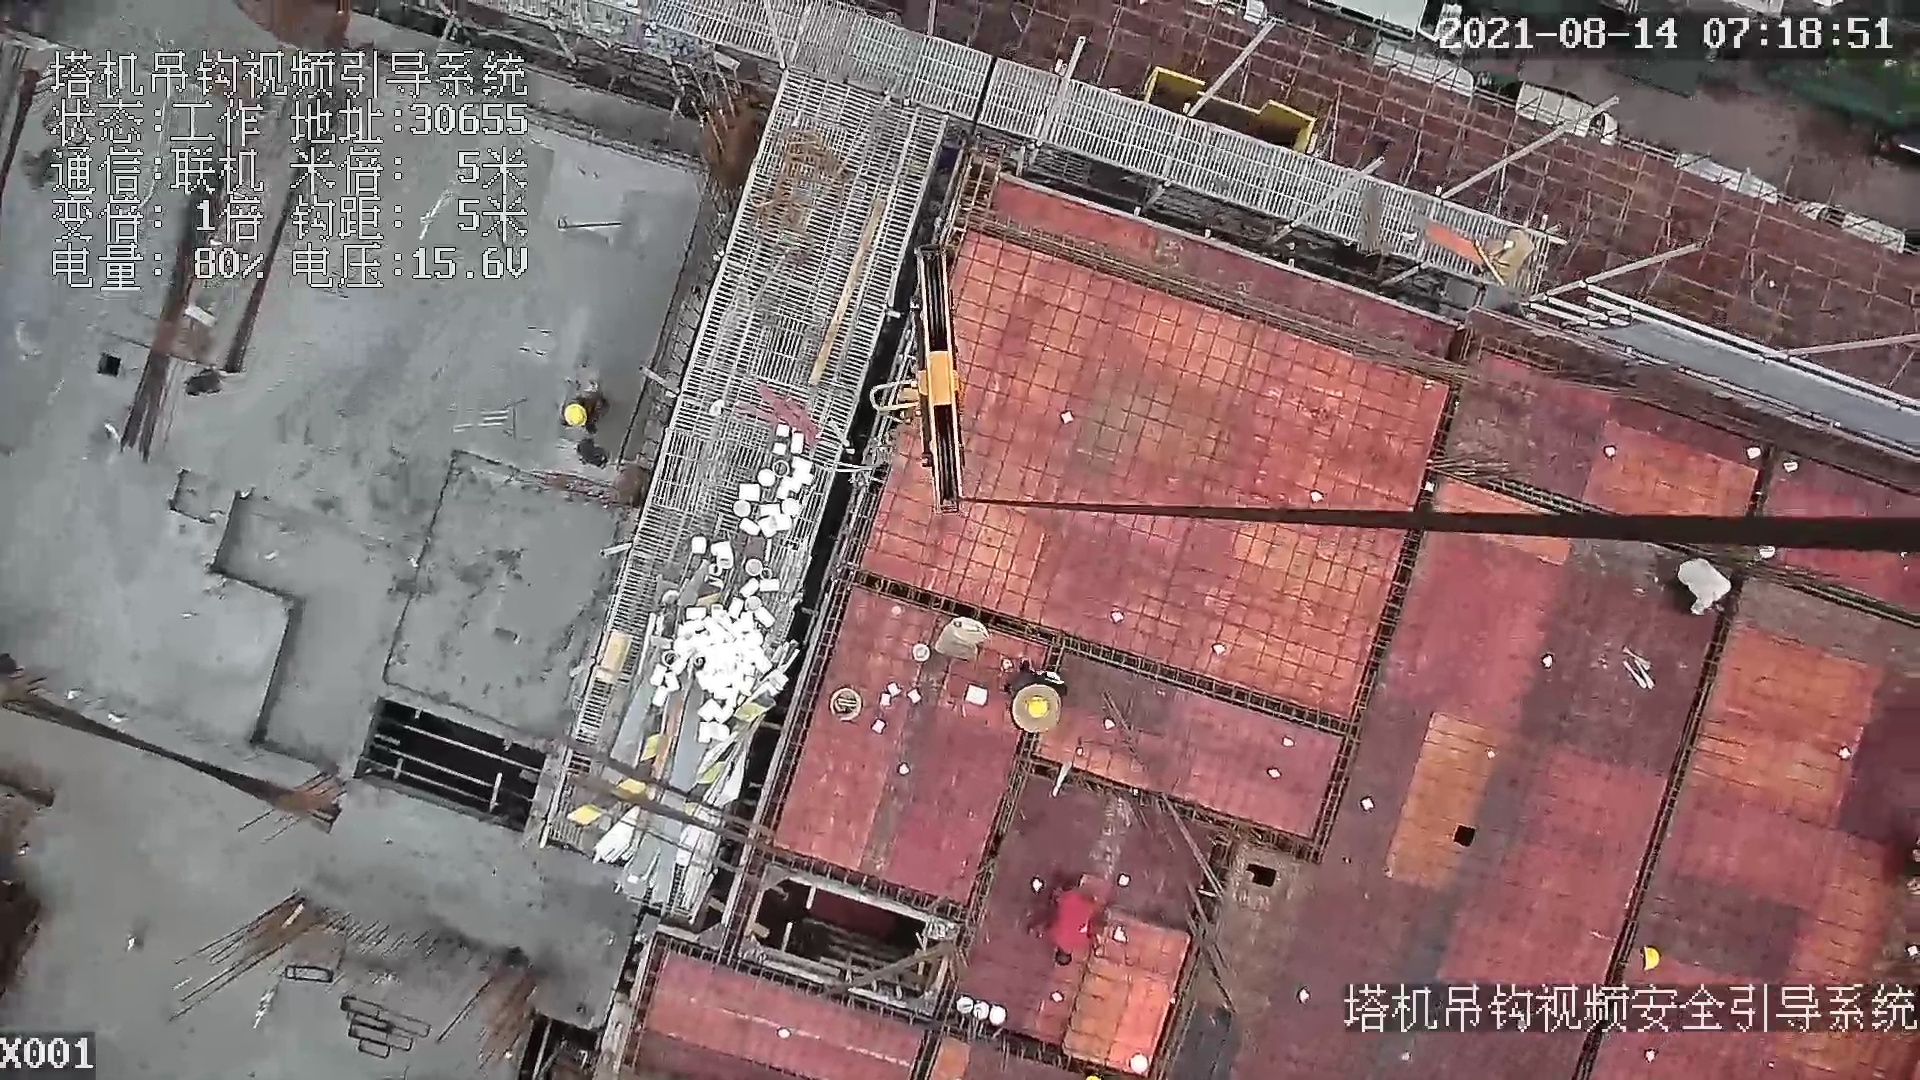helmet: (1029, 697, 1054, 726), (563, 405, 586, 428)
hook: (873, 240, 978, 513)
person: (1036, 890, 1095, 973), (1001, 667, 1070, 736), (560, 378, 604, 433)
